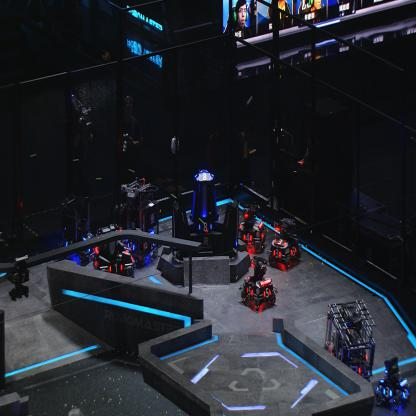car: (324, 297, 376, 387), (116, 178, 162, 264), (56, 192, 96, 265), (95, 221, 135, 278), (374, 355, 412, 411), (241, 254, 276, 311), (268, 213, 302, 269), (233, 201, 266, 252)
